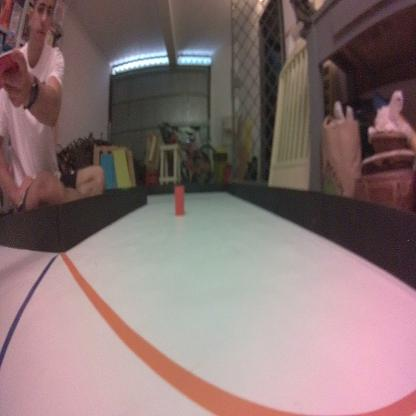red: (173, 183, 184, 219)
